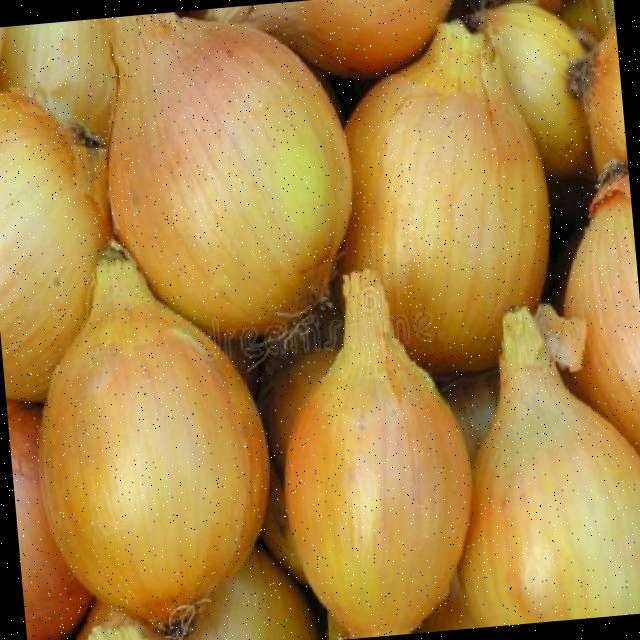Onion: (39, 249, 269, 625), (108, 12, 352, 331), (343, 22, 550, 373), (286, 270, 471, 636), (460, 311, 640, 627), (0, 92, 106, 401), (7, 401, 91, 640), (567, 180, 640, 454), (197, 0, 452, 76), (184, 549, 318, 640)
